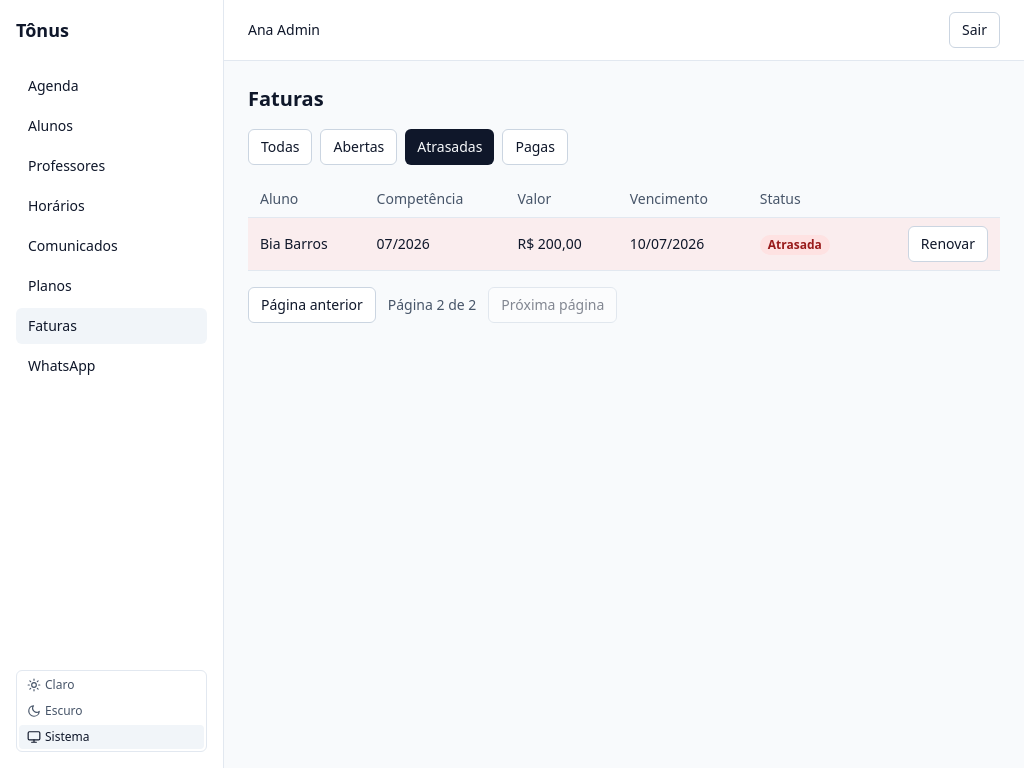
Test: paginação › recua quando a página deixa de existir depois da renovação
Click the button with aria-label "Renovar a fatura de Bia Barros" at (948, 244), box 908,226 -> 988,262
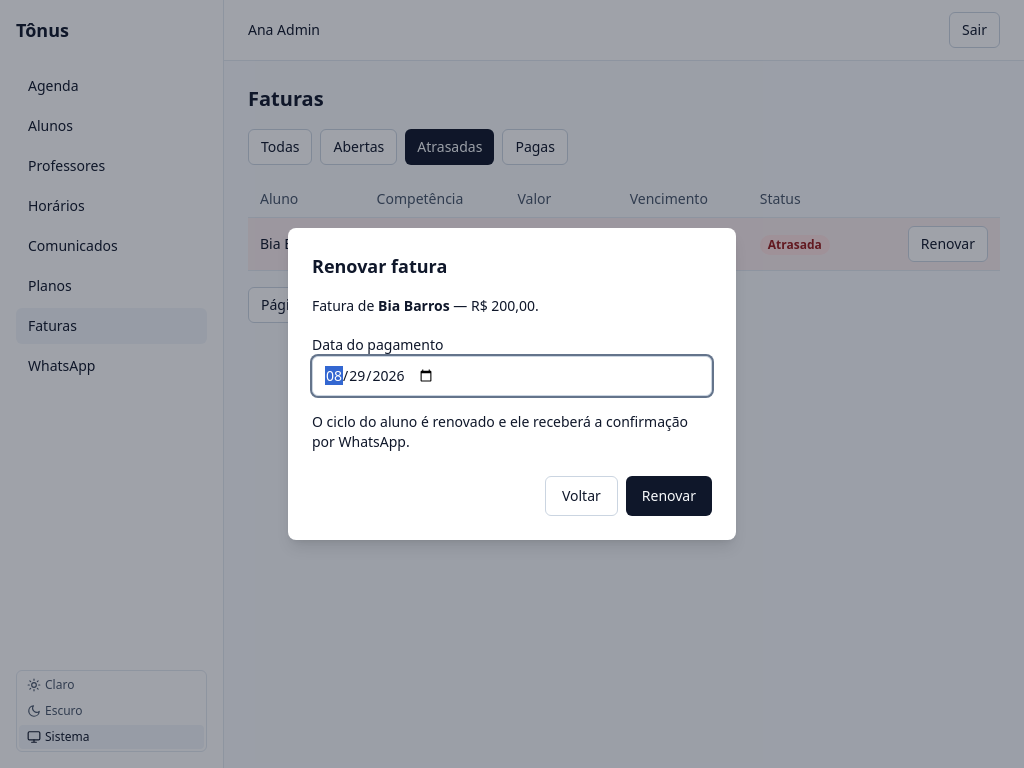
Click the button "Renovar" at (669, 496), box 626,476 -> 712,516
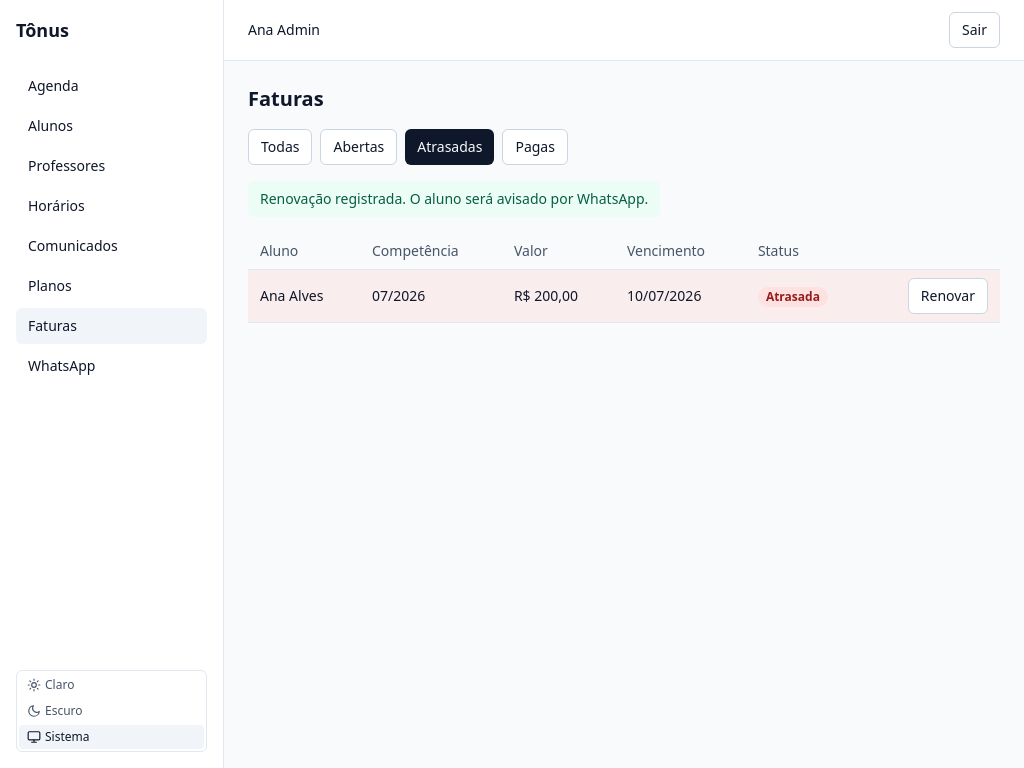
Expected: the row "Ana Alves 07/2026 R$ 200,00 10/07/2026 Atrasada Renovar" is shown, 248,270 -> 1000,322
